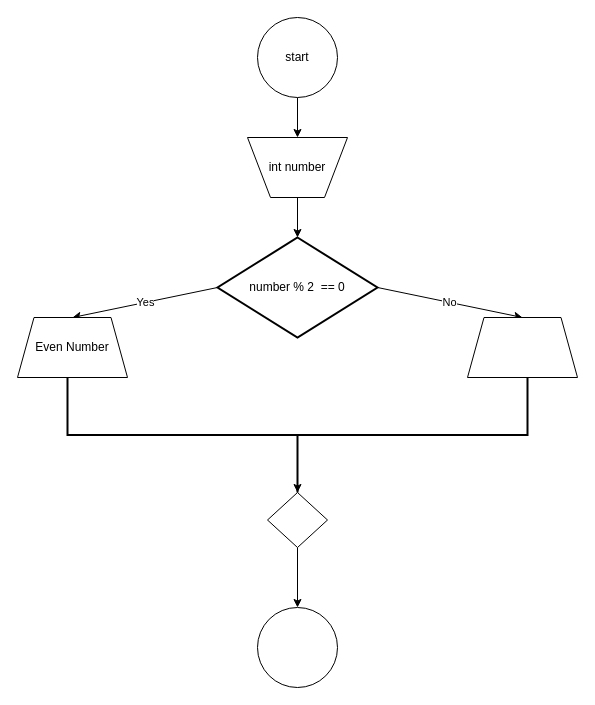
This 595x705 diagram has some shape labels left out. The centre of each missing label's shape, as x and y in pixels:
"Odd Number" belongs at point 522,347.
"Stop" belongs at point 297,647.
